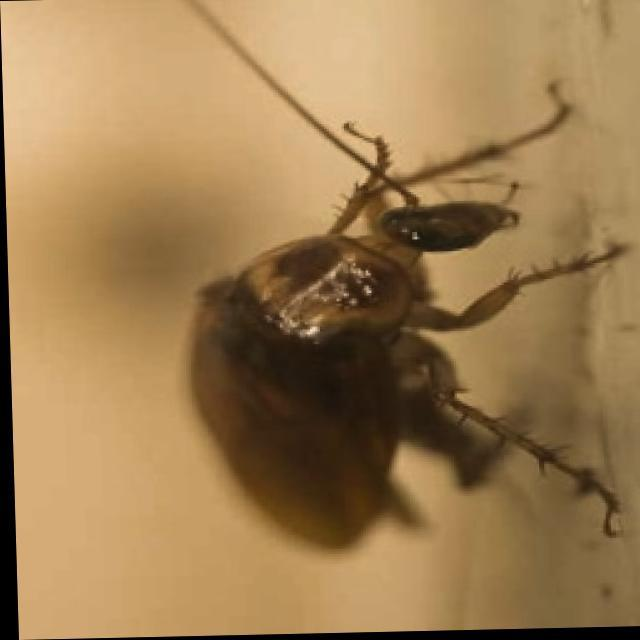cockroach: (186, 100, 606, 552)
